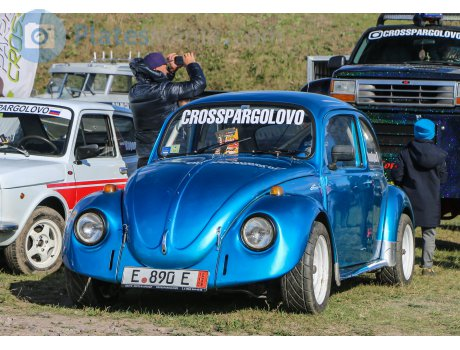License Plates: (130, 265, 196, 283)
